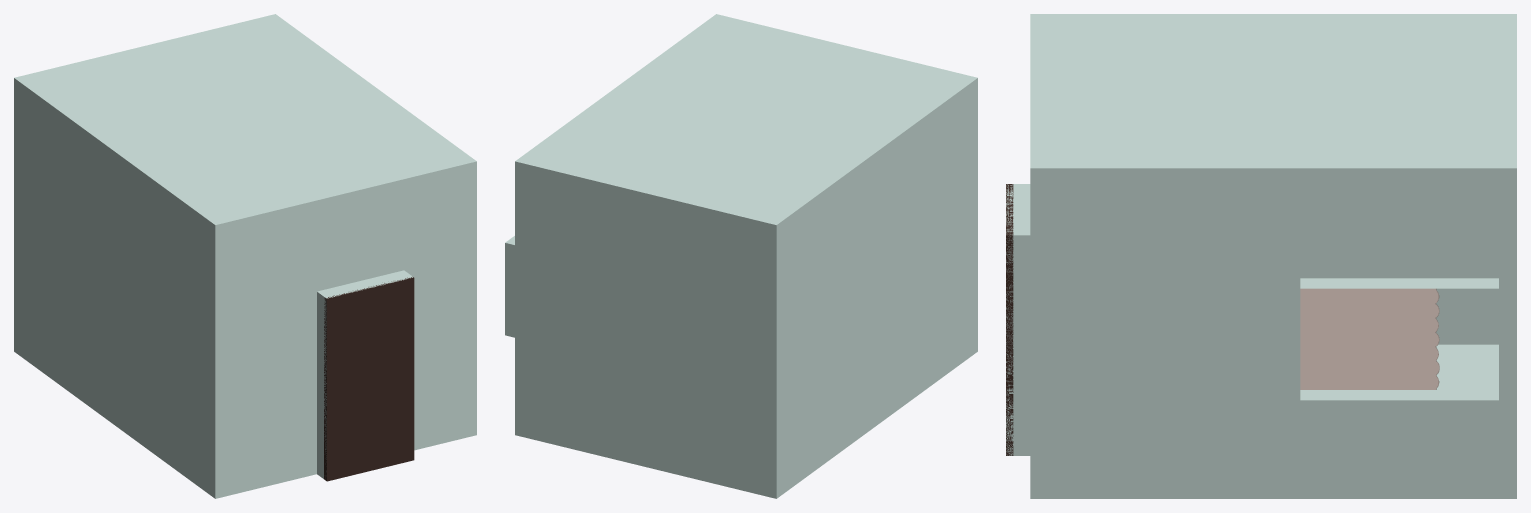
The model's file is start4.fbx.
3 views of the same model, side by side, from view 1: azimuth 30°, elevation 25°; view 2: azimuth 150°, elevation 25°; view 3: azimuth 270°, elevation 25° (orthographic). The views are drawn at different scales.
Parts seen in each view (by area): view 1: walls, door; view 2: walls; view 3: walls, zavesa, door.
Boxes of the visible parts, bbox=[...] form: walls: bbox=[14, 14, 476, 498]; door: bbox=[324, 276, 414, 481]; walls: bbox=[505, 14, 977, 498]; walls: bbox=[1006, 14, 1516, 498]; zavesa: bbox=[1300, 288, 1439, 389]; door: bbox=[1006, 184, 1013, 455].
Size of the model in its own units: 320 by 300 by 420.
